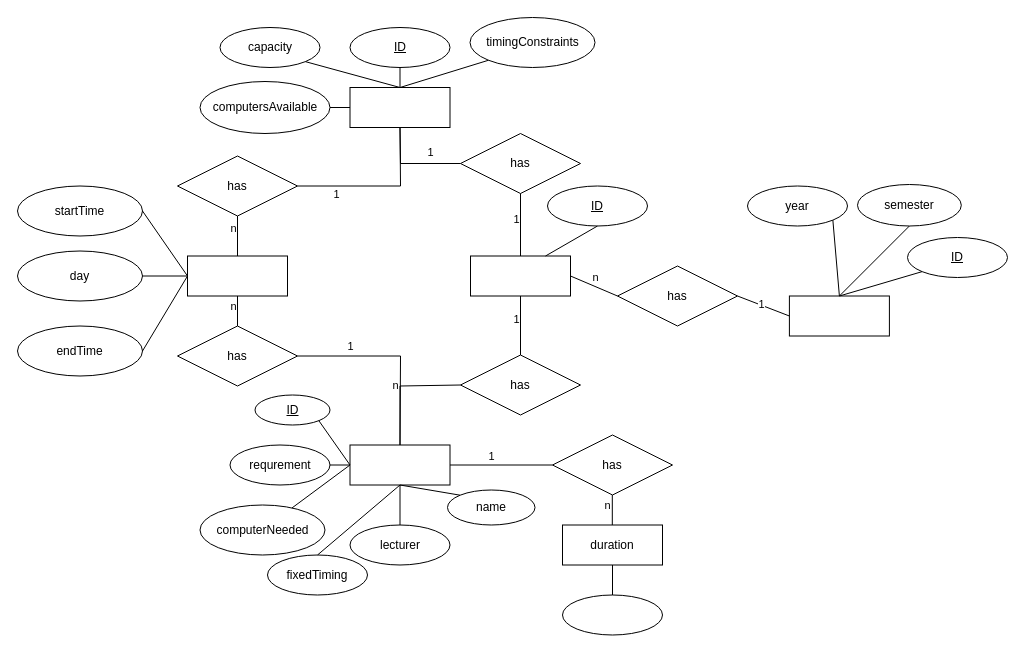
This 1025x653 diagram has some shape labels left out. Here are the shapes that lost their labels. From the top down, the box of each, then its label:
(349, 86, 450, 128): Room
(186, 255, 288, 296): Timing
(470, 255, 570, 296): RoomTable
(788, 295, 889, 336): TimeTable
(349, 444, 450, 485): Course
(562, 594, 662, 635): time
